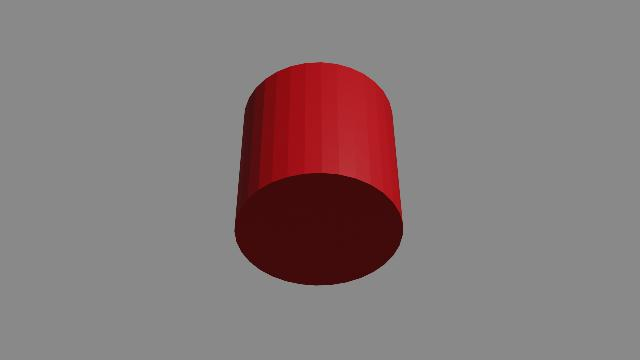Cylinder: (231, 57, 411, 288)
